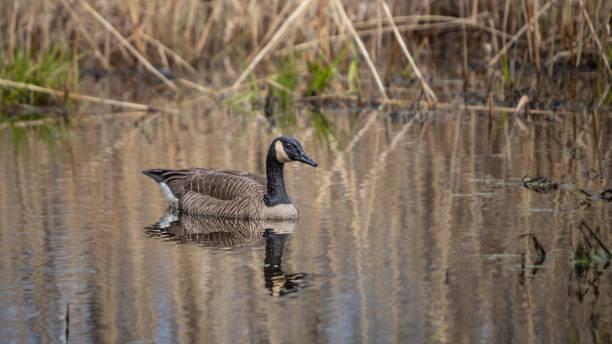Canadian-Goose: (145, 137, 319, 228)
